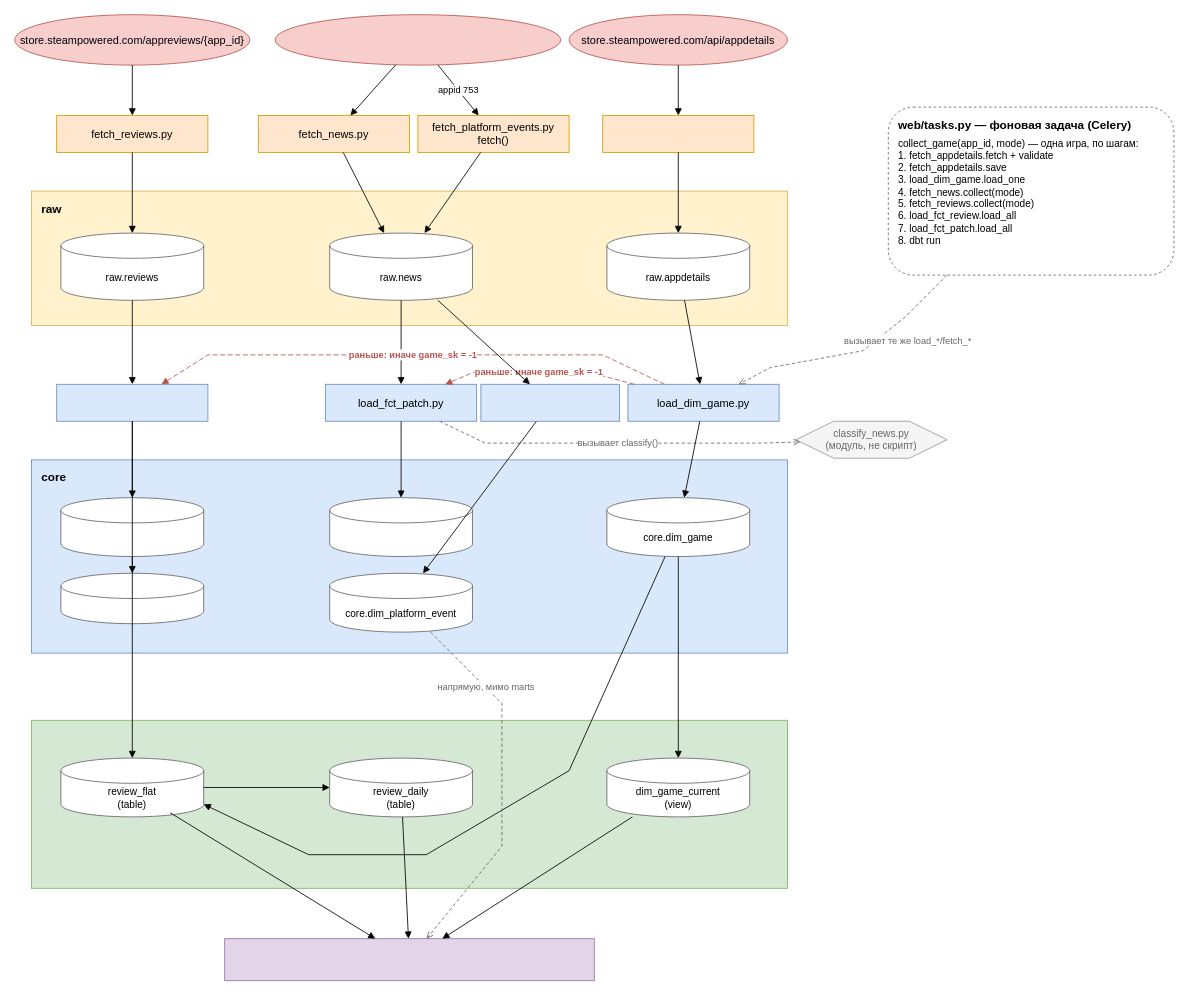
The diagram is 1189 pixels wide and 995 high, and some of its shapes have lost their labels. Here are the shapes that lost their labels. From the top down, the box of each, then its label:
(274, 14, 561, 65): api.steampowered.com/ISteamNews/GetNewsForApp
(602, 115, 754, 152): fetch_appdetails.py
(56, 383, 208, 421): load_fct_review.py
(480, 383, 620, 421): fetch_platform_events.py load_all()
(60, 497, 204, 556): core.fct_review
(329, 497, 472, 556): core.fct_patch
(60, 572, 204, 624): core.review_text
(31, 719, 788, 888): marts
(224, 938, 594, 981): web/app.py
